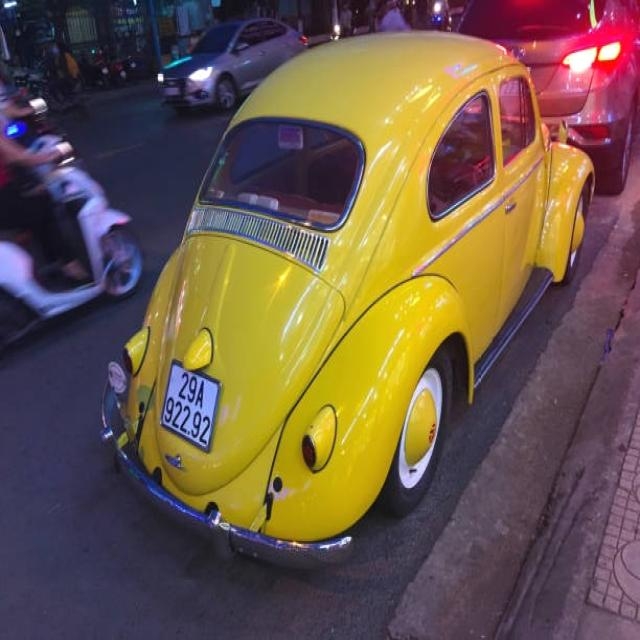car: (117, 43, 587, 539)
